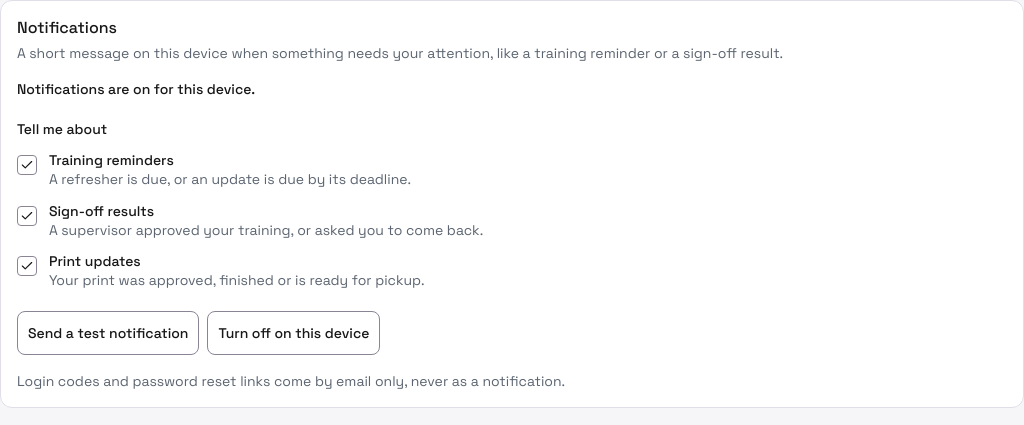
Test: NotificationsCard: when on › turns notifications off on this device
expect the text "Notifications are on for this device." is shown: met, box x1=17 y1=80 x2=255 y2=98
Click the button "Turn off on this device".
click(294, 332)  # box x1=208 y1=310 x2=380 y2=354
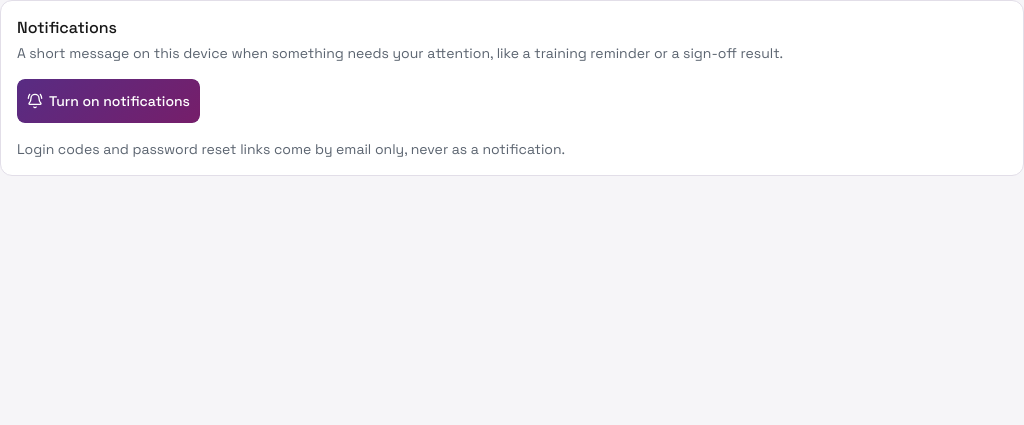
expect the button "Turn on notifications" is shown: met, box x1=17 y1=79 x2=200 y2=123
